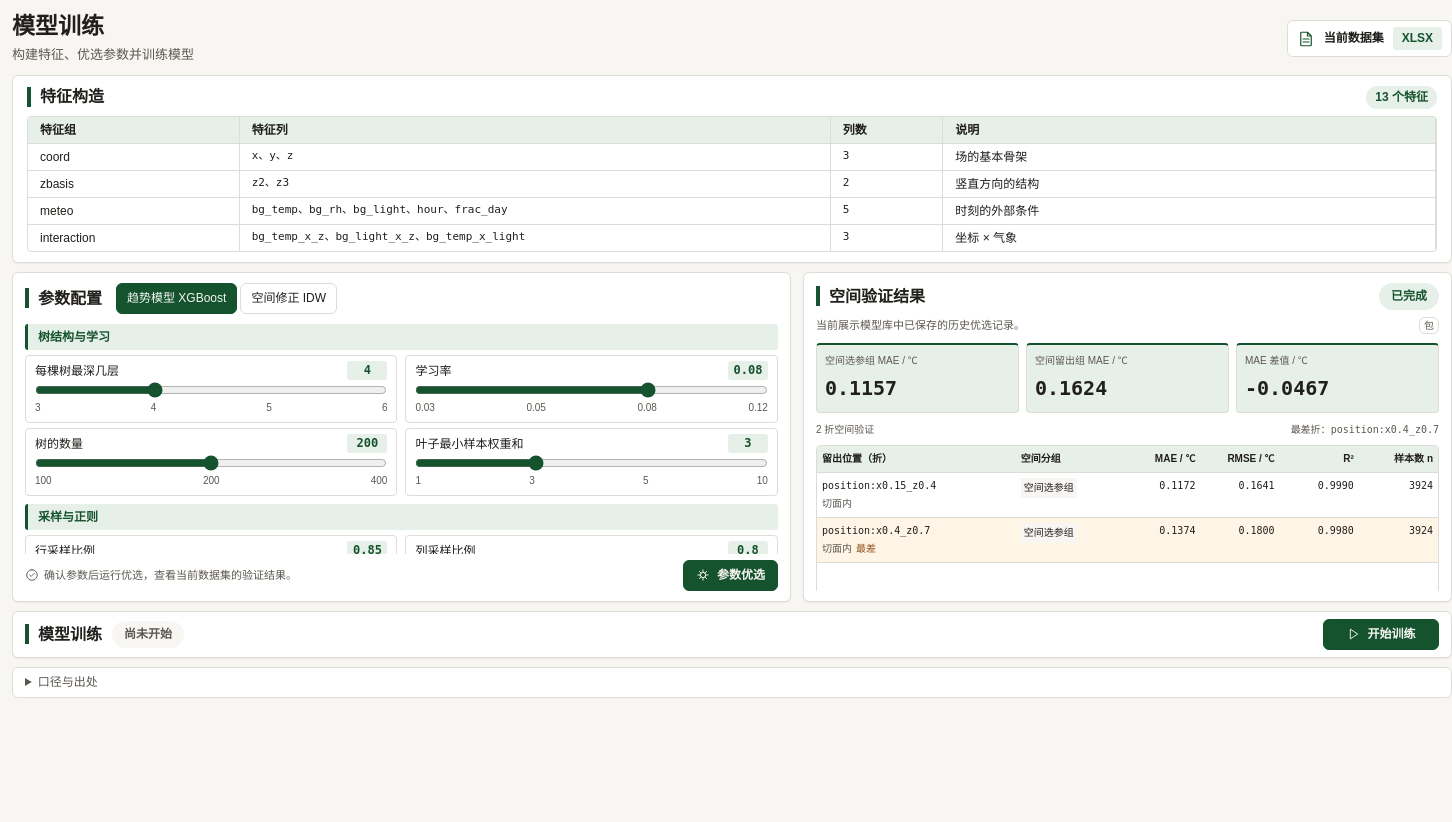
Test case: 页② 模型训练 › 基线永远跟模型并排，两行一起出来
What coordinates should you click on to do the following:
click the button "开始训练"
I would click on:
 (1381, 634)
Its box is [1323,619,1439,650].
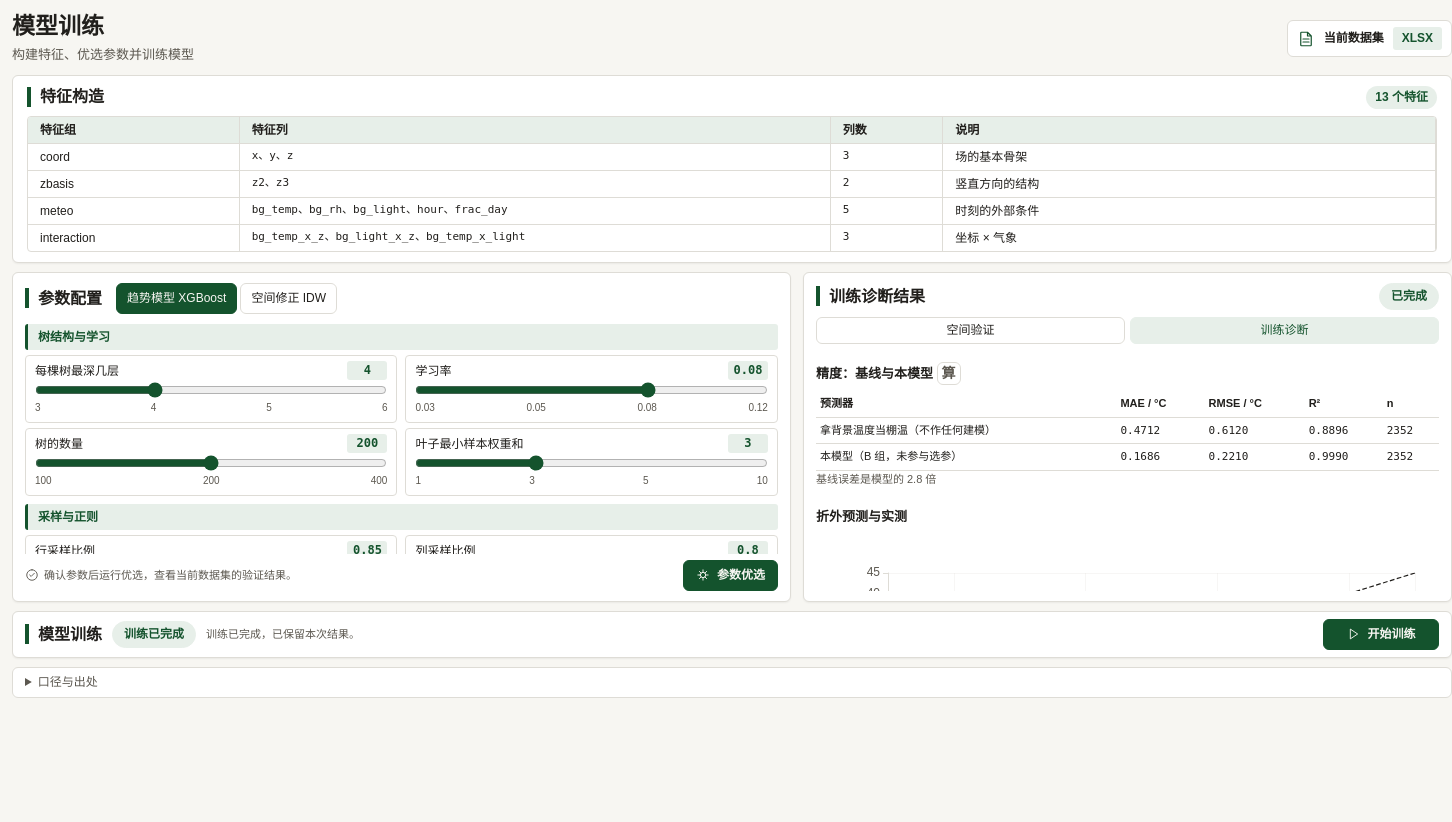
Now the text "2.8 倍" is shown, box [816,473,936,485]
